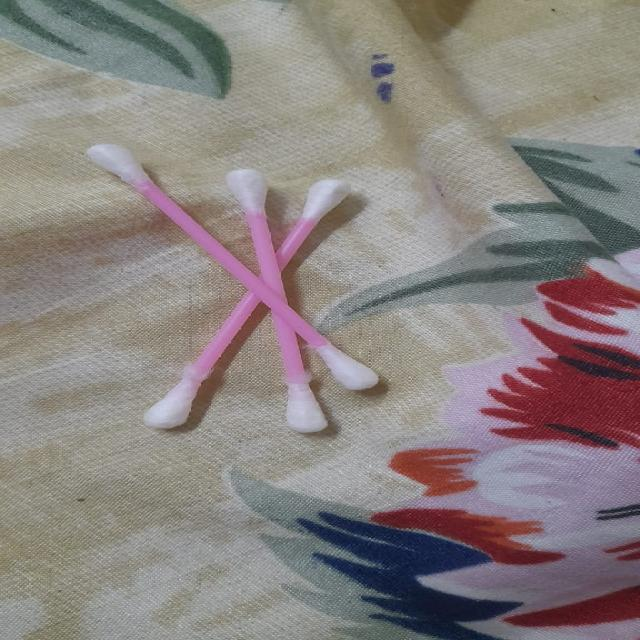Earbud - Non Recyclable: (81, 142, 383, 434)
